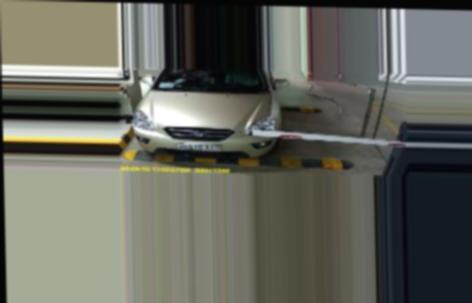License_Plate: (175, 143, 222, 155)
